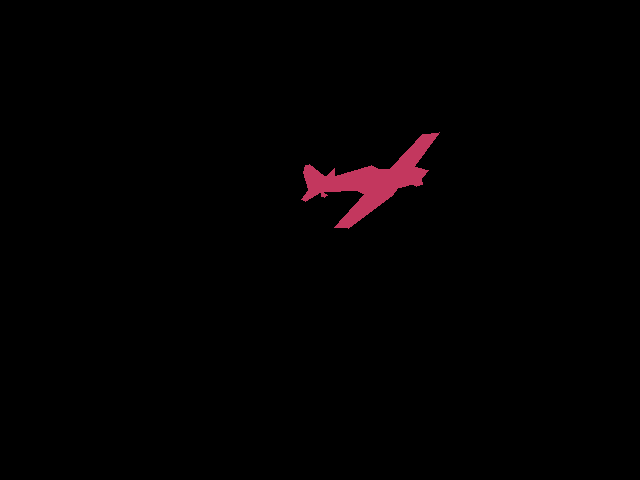Airplane: (301, 132, 440, 228)
